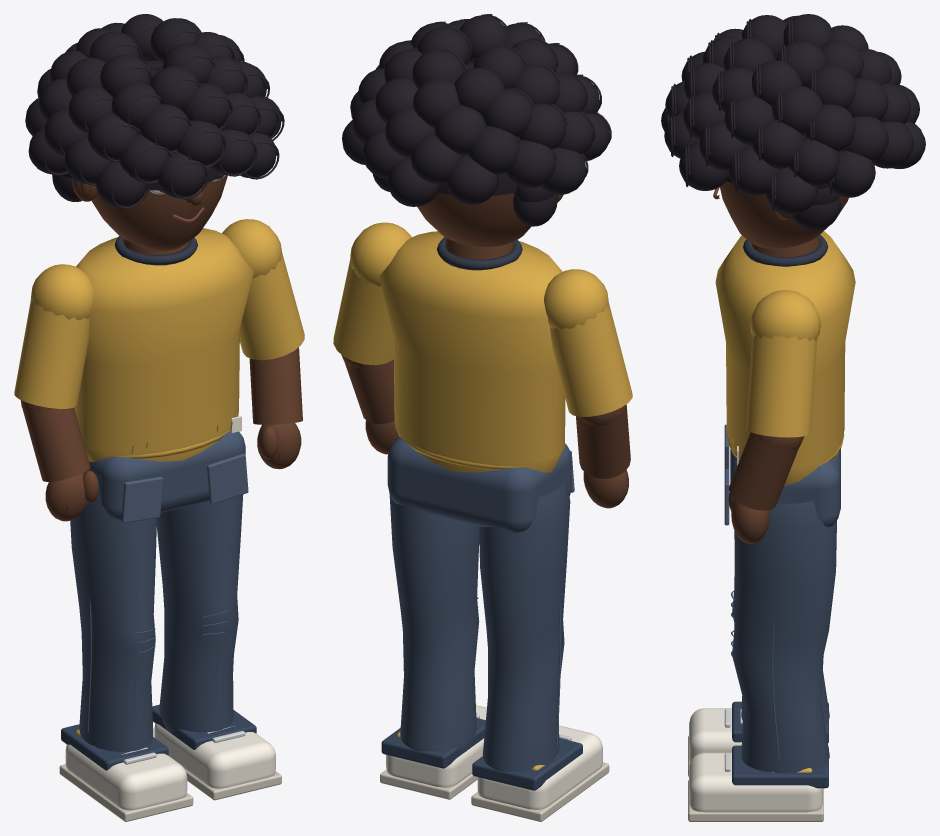
The model's file is compa-nico.glb.
The picture shows the model from 3 angles, left to right: view 1: azimuth 30°, elevation 25°; view 2: azimuth 150°, elevation 25°; view 3: azimuth 270°, elevation 25°; orthographic projection. The views are drawn at different scales.
Visible parts, largest first — view 1: body, head; view 2: body, head; view 3: body, head.
Boxes of the visible parts, left/top/right/bottom form: body: left=14, top=219, right=304, bottom=821; head: left=25, top=14, right=284, bottom=250; body: left=333, top=222, right=632, bottom=821; head: left=342, top=14, right=611, bottom=246; body: left=688, top=231, right=855, bottom=821; head: left=661, top=14, right=925, bottom=248.
Size of the model in its own units: 0.8592 by 2.14 by 0.6822.
